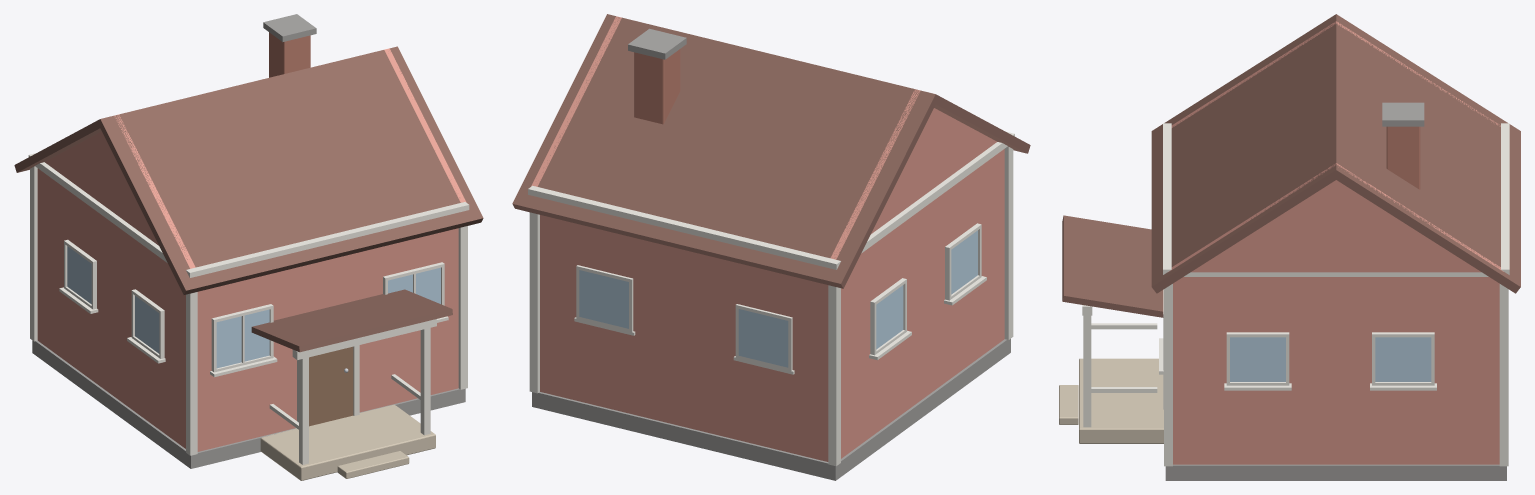
File: HouseRedModel.glb
The picture shows the model from 3 angles, left to right: view 1: azimuth 30°, elevation 25°; view 2: azimuth 150°, elevation 25°; view 3: azimuth 270°, elevation 25°; orthographic projection. The views are drawn at different scales.
Visible parts, largest first — view 1: HouseRedModel; view 2: HouseRedModel; view 3: HouseRedModel.
Part boxes in pixels (x1,y1,x2,y2): HouseRedModel: (14,14,483,480); HouseRedModel: (512,14,1030,480); HouseRedModel: (1059,14,1520,480).
Bounding box in the file's own units: 6.6 × 6.61 × 8.26.
